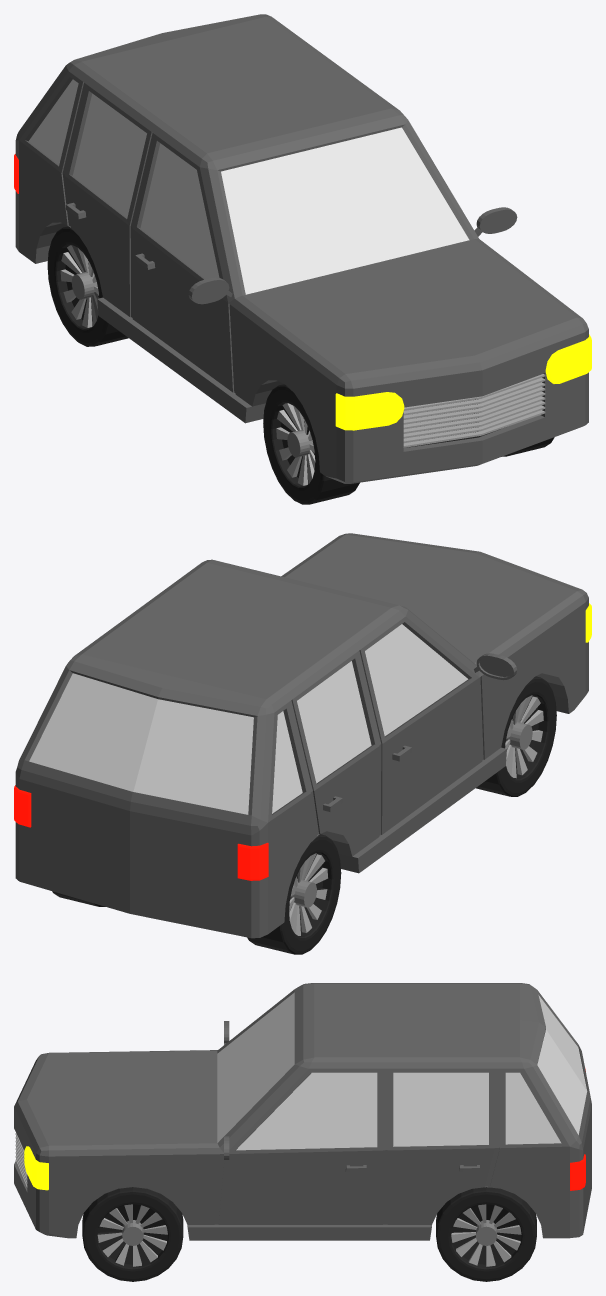
File: car.fbx
3 views of the same model, one above another, from view 1: azimuth 30°, elevation 25°; view 2: azimuth 150°, elevation 25°; view 3: azimuth 270°, elevation 25° (orthographic). The views are drawn at different scales.
Visible parts, largest first — view 1: Car, Cylinder; view 2: Car, Cylinder; view 3: Car, Cylinder.
Boxes of the visible parts, x1,y1,x2,y2 form: Car: (14,14,591,483); Cylinder: (47,226,554,504); Car: (14,533,591,938); Cylinder: (52,676,556,954); Car: (14,983,591,1240); Cylinder: (82,1187,536,1281).
Size of the model in its own units: 183 by 140 by 343.
